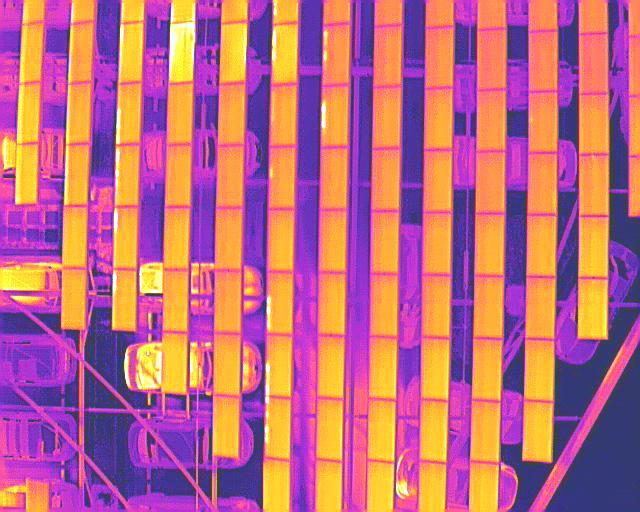Cell: (268, 147, 297, 210)
Cell-Multi: (264, 398, 292, 460)
No-Anomaly: (474, 276, 505, 340), (523, 340, 555, 402), (475, 214, 506, 277), (372, 24, 403, 87), (528, 29, 558, 94), (318, 146, 348, 210), (526, 276, 556, 339), (579, 93, 609, 156), (527, 90, 557, 153), (527, 151, 557, 214), (478, 29, 507, 94), (214, 270, 243, 335), (422, 273, 451, 338), (474, 336, 503, 401), (372, 84, 401, 149), (580, 154, 609, 219), (477, 150, 506, 215), (422, 212, 451, 276), (370, 274, 399, 338), (422, 337, 451, 401), (579, 217, 609, 278), (472, 402, 502, 463), (523, 401, 553, 462), (579, 277, 608, 340), (369, 337, 398, 400), (420, 400, 449, 463), (162, 208, 191, 271), (216, 207, 245, 270), (220, 21, 248, 86), (319, 209, 347, 274), (371, 211, 399, 275), (528, 214, 556, 278), (426, 27, 454, 91), (371, 147, 399, 211), (268, 84, 296, 147), (216, 145, 244, 208), (267, 209, 295, 272), (479, 87, 506, 152), (317, 335, 344, 399), (68, 19, 95, 83), (425, 86, 452, 150), (580, 32, 608, 93), (369, 399, 396, 462), (214, 334, 241, 397), (162, 333, 189, 396), (162, 267, 188, 332), (425, 148, 451, 213), (319, 272, 346, 334), (317, 397, 343, 461), (220, 80, 245, 146), (166, 144, 192, 207), (167, 83, 193, 145), (19, 21, 44, 85), (65, 143, 90, 207), (62, 267, 87, 330), (68, 81, 92, 146), (215, 396, 240, 458), (16, 82, 41, 144), (62, 206, 87, 268), (15, 141, 38, 204)
Unclassified: (266, 271, 294, 336), (322, 24, 351, 85), (271, 24, 298, 87), (322, 85, 349, 148), (266, 336, 292, 398), (114, 206, 139, 270), (119, 22, 144, 85), (170, 21, 195, 84), (117, 82, 142, 145), (115, 144, 140, 206), (112, 269, 136, 330)
